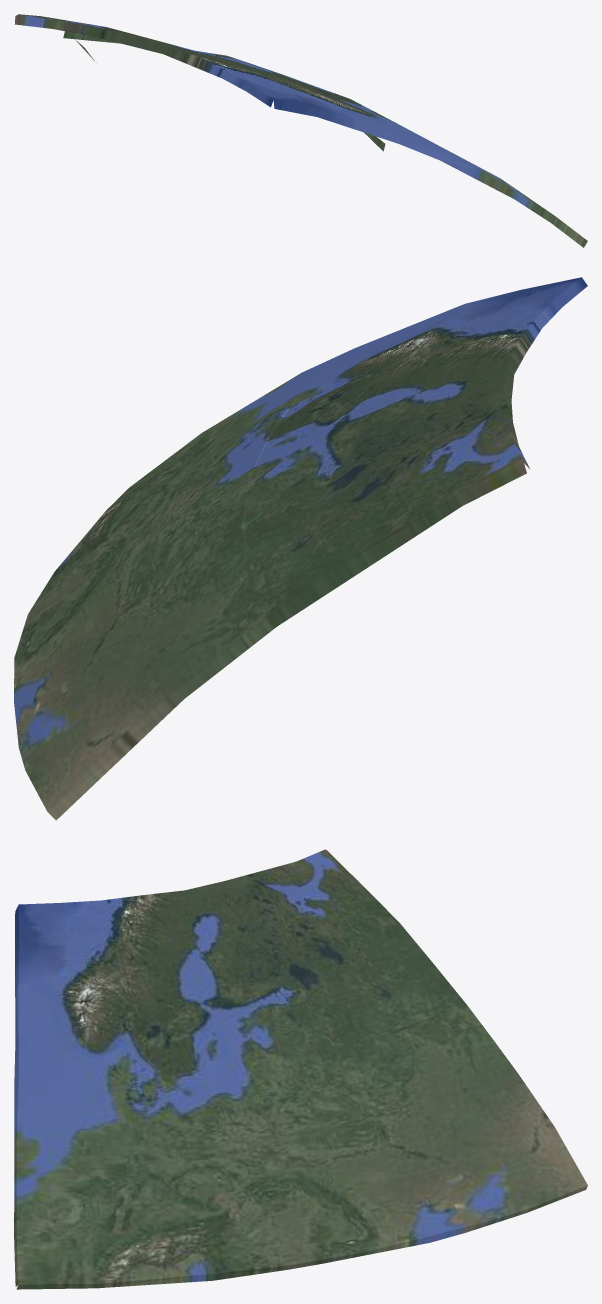
The picture shows the model from 3 angles, top to bottom: view 1: azimuth 30°, elevation 25°; view 2: azimuth 150°, elevation 25°; view 3: azimuth 270°, elevation 25°; orthographic projection. The views are drawn at different scales.
Bounding box in the file's own units: 2826918 × 1445523 × 3224943.
Materials: 1 (1 with a texture image).
